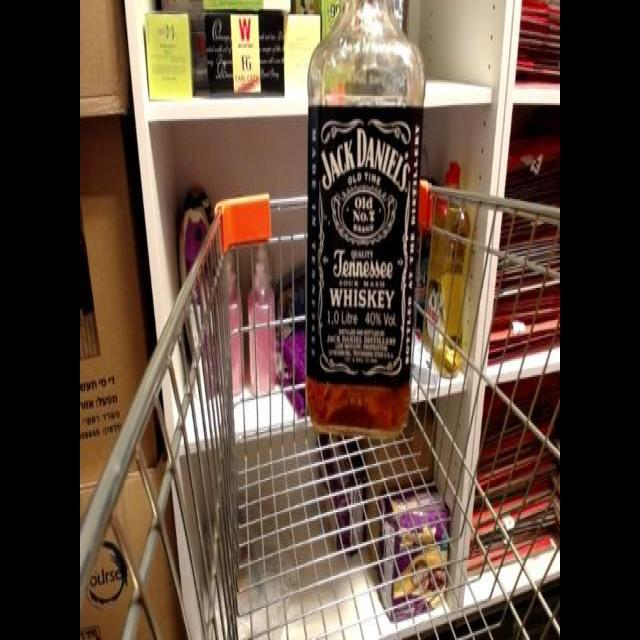Jack Daniels: (284, 0, 436, 446)
